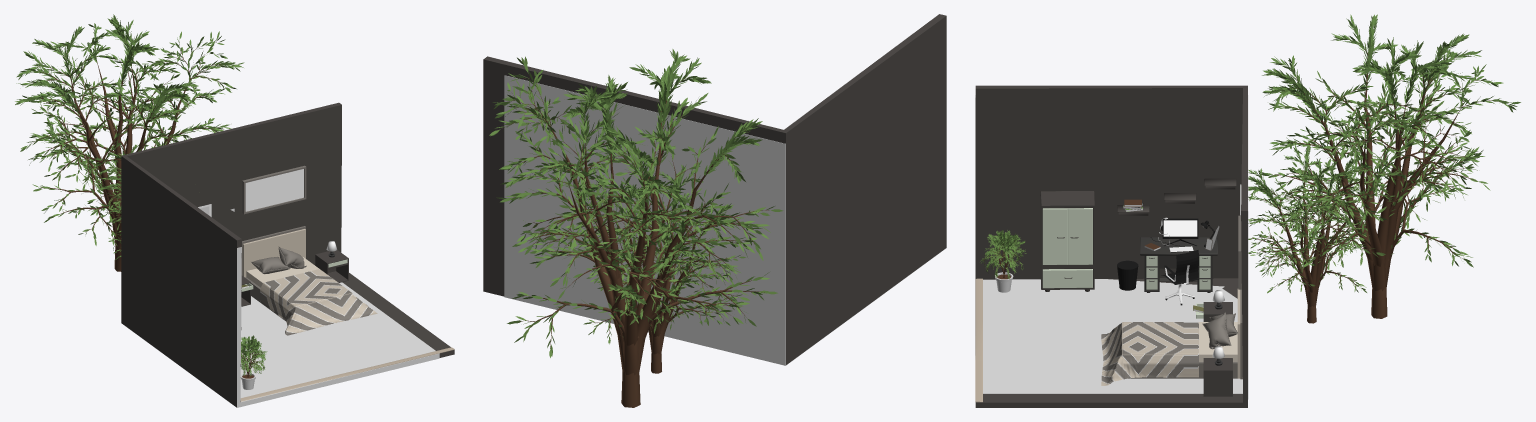
The model's file is isometricRoom.glb.
3 views of the same model, side by side, from view 1: azimuth 30°, elevation 25°; view 2: azimuth 150°, elevation 25°; view 3: azimuth 270°, elevation 25° (orthographic). The views are drawn at different scales.
Visible parts, largest first — view 1: Cube.022, leaves.001, Cube, tree.001, Plane.002, Cube.045, Cube.005, Cube.001, leaves.002, Cube.007, Cube.026, leaves (+2 smaller); view 2: Cube.022, Cube, leaves.001, tree.001, leaves.002, tree.002; view 3: Cube.022, Cube, leaves.001, tree.001, leaves.002, Plane.002, tree.002, Cube.033, Cube.031, Cube.032, leaves, Cube.026 (+10 smaller).
Part boxes in pixels (x1,y1,x2,y2): Cube.022: [121, 102, 454, 407]; leaves.001: [15, 14, 244, 250]; Cube: [123, 206, 439, 407]; tree.001: [29, 30, 222, 271]; Plane.002: [260, 269, 377, 335]; Cube.045: [242, 165, 306, 214]; Cube.005: [242, 229, 305, 277]; Cube.001: [240, 347, 454, 401]; leaves.002: [98, 139, 167, 259]; Cube.007: [246, 257, 352, 307]; Cube.026: [315, 250, 348, 282]; leaves: [240, 335, 267, 375]; Cube.022: [483, 14, 946, 364]; Cube: [504, 75, 945, 365]; leaves.001: [489, 49, 783, 357]; tree.001: [502, 74, 768, 407]; leaves.002: [573, 164, 745, 344]; tree.002: [586, 179, 735, 373]; Cube.022: [975, 85, 1247, 407]; Cube: [975, 95, 1248, 399]; leaves.001: [1261, 14, 1520, 267]; tree.001: [1272, 39, 1498, 318]; leaves.002: [1248, 145, 1394, 293]; Plane.002: [1101, 322, 1198, 385]; tree.002: [1250, 163, 1380, 323]; Cube.033: [1040, 191, 1094, 289]; Cube.031: [1042, 208, 1067, 264]; Cube.032: [1068, 208, 1092, 264]; leaves: [980, 230, 1026, 278]; Cube.026: [1203, 358, 1232, 396].
Size of what is drawn, in the model's own units: 33.41 by 29.79 by 52.32.
